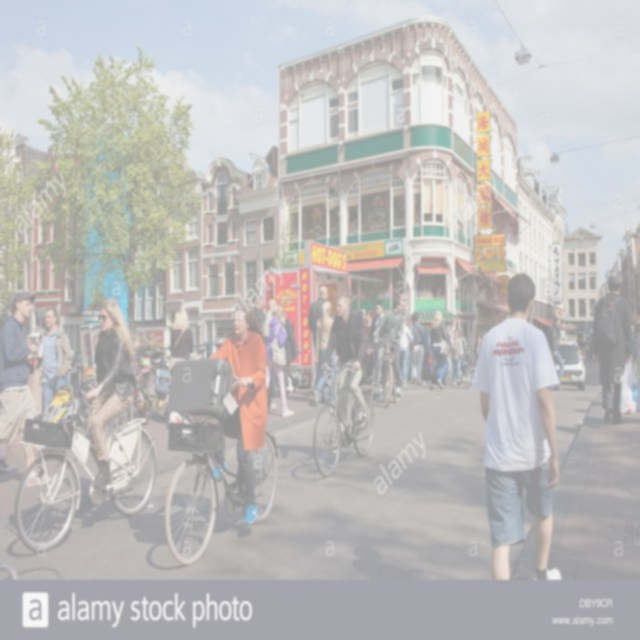pessoa: (474, 271, 564, 581), (203, 302, 267, 528), (85, 296, 138, 492), (0, 290, 45, 488), (321, 290, 368, 454), (592, 274, 634, 426), (37, 306, 72, 411), (264, 302, 294, 418), (372, 293, 403, 399), (308, 284, 328, 397), (314, 301, 334, 407), (429, 308, 451, 392), (368, 300, 386, 396), (279, 310, 299, 392), (170, 307, 194, 360), (409, 310, 425, 386), (398, 314, 414, 388), (627, 297, 640, 387), (548, 318, 564, 390), (450, 328, 463, 386), (442, 318, 452, 386), (578, 331, 597, 364), (365, 309, 373, 381), (251, 292, 266, 330), (264, 298, 278, 322), (458, 328, 467, 356), (473, 336, 482, 362), (358, 308, 367, 318), (401, 306, 408, 316)
